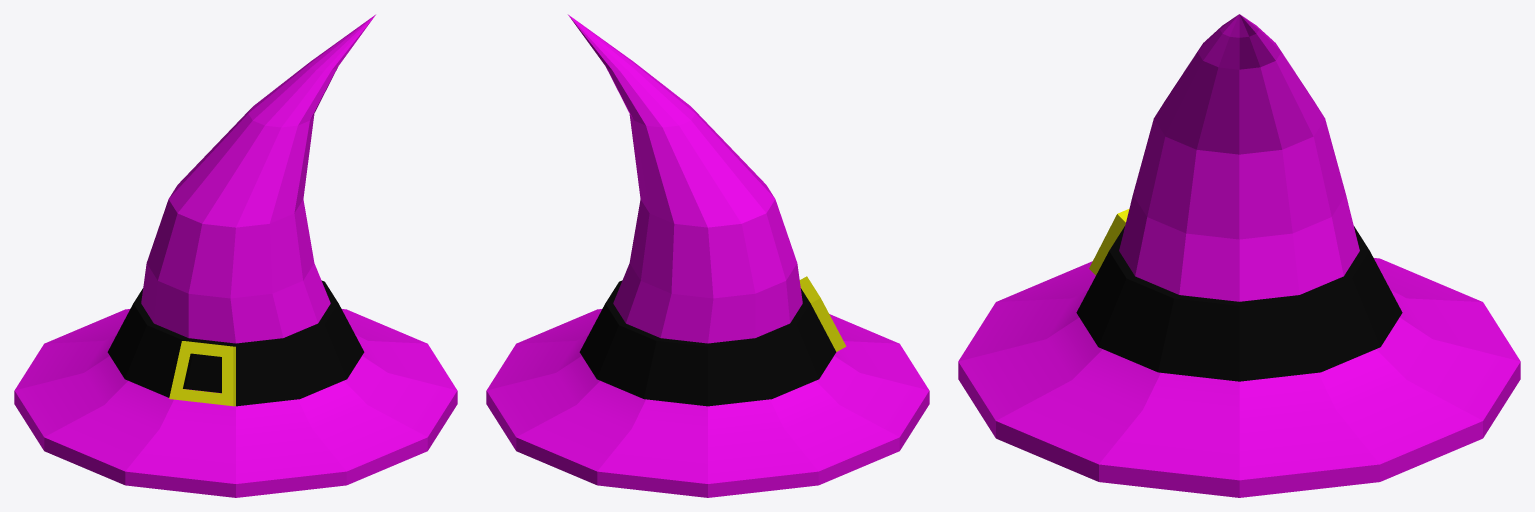
Rendered from Wizard_Hat.fbx.
The picture shows the model from 3 angles, left to right: view 1: azimuth 30°, elevation 25°; view 2: azimuth 150°, elevation 25°; view 3: azimuth 270°, elevation 25°; orthographic projection. The views are drawn at different scales.
Parts seen in each view (by area): view 1: pasted__Wizard_Hat; view 2: pasted__Wizard_Hat; view 3: pasted__Wizard_Hat.
Part boxes in pixels (x1=…): pasted__Wizard_Hat: x1=14, y1=14, x2=457, y2=497; pasted__Wizard_Hat: x1=486, y1=14, x2=929, y2=497; pasted__Wizard_Hat: x1=958, y1=14, x2=1520, y2=497.
Size of the model in its own units: 61.1 by 54.19 by 61.1.
